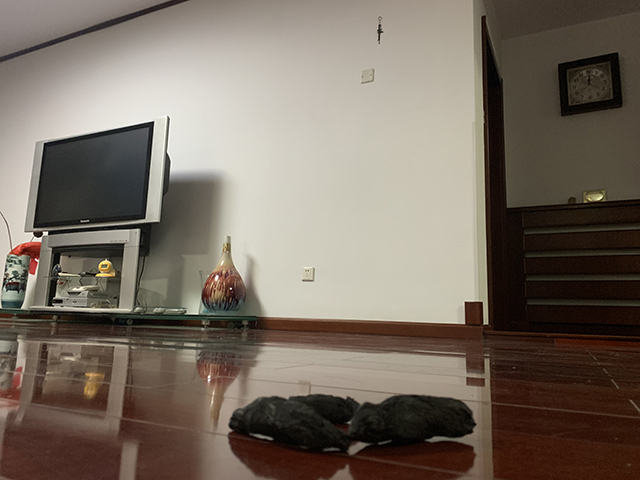cabinet: (1, 227, 252, 330)
carpet: (485, 327, 640, 342)
feces: (226, 390, 479, 456)
